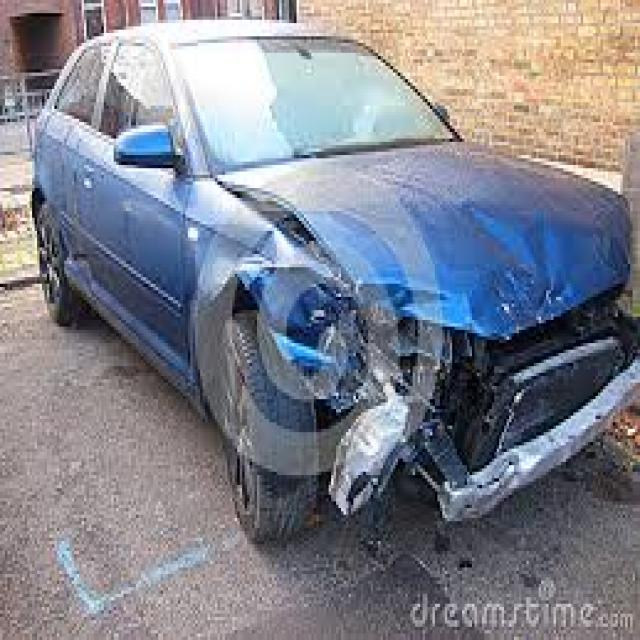moderate: (201, 195, 608, 601)
